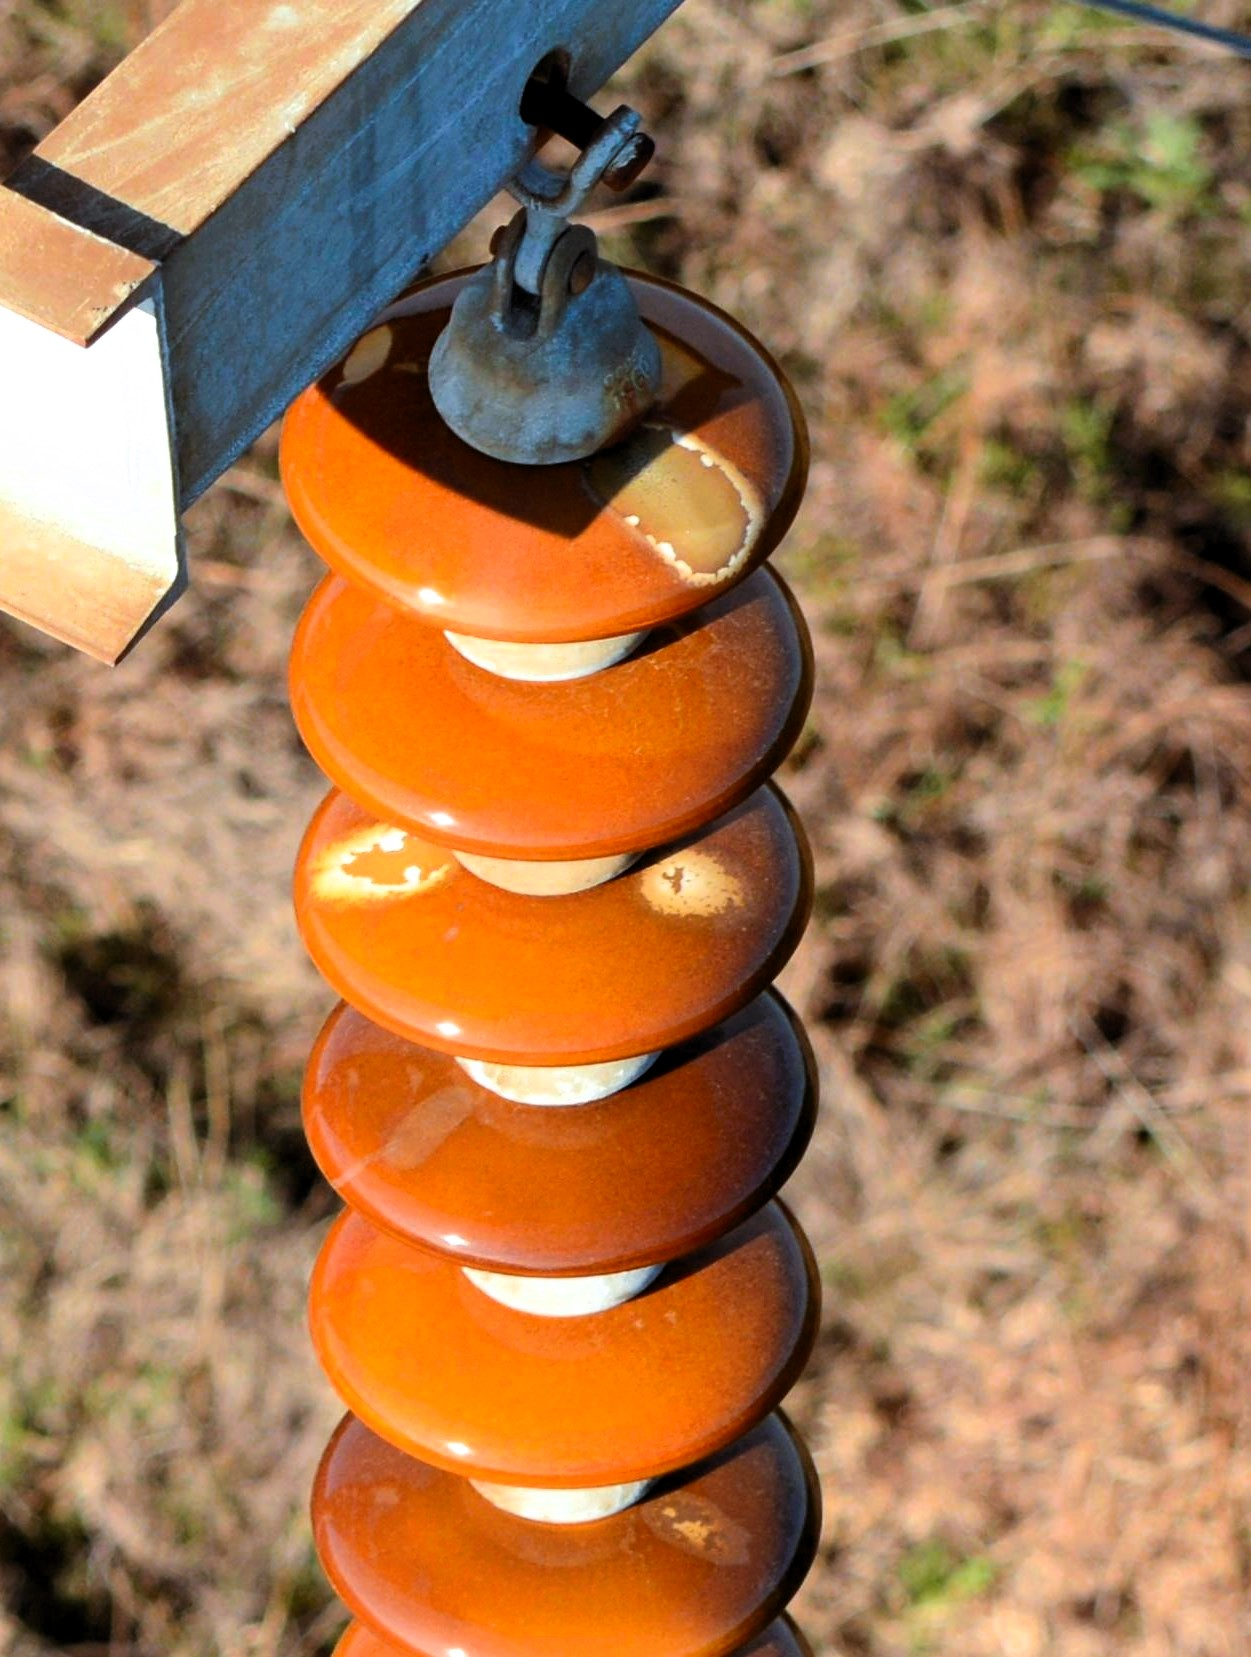Insulator flashover: (264, 247, 827, 645), (273, 774, 827, 1074)
